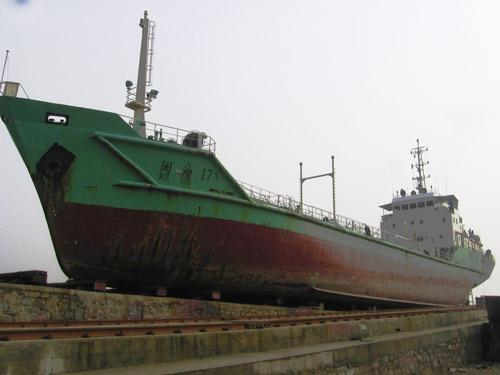Cargoship: (6, 8, 498, 310)
